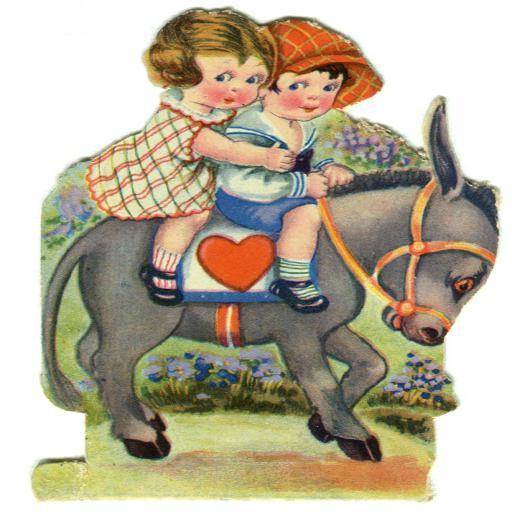horse: (42, 96, 498, 464)
